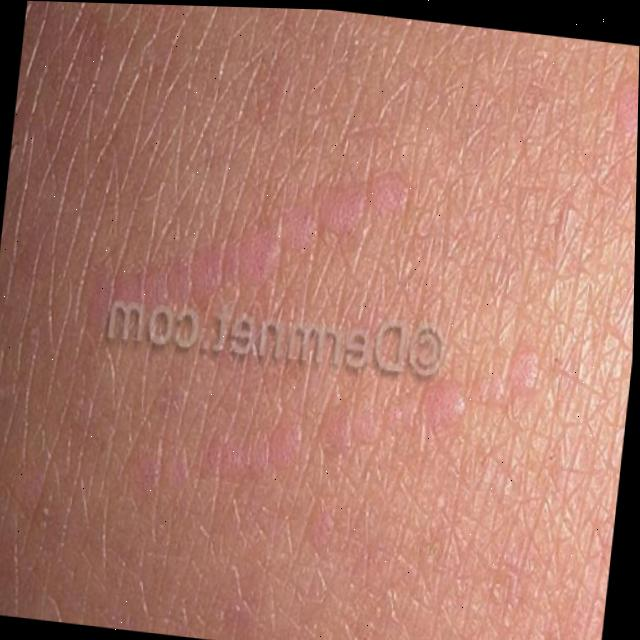Shingles: (58, 113, 517, 503)
